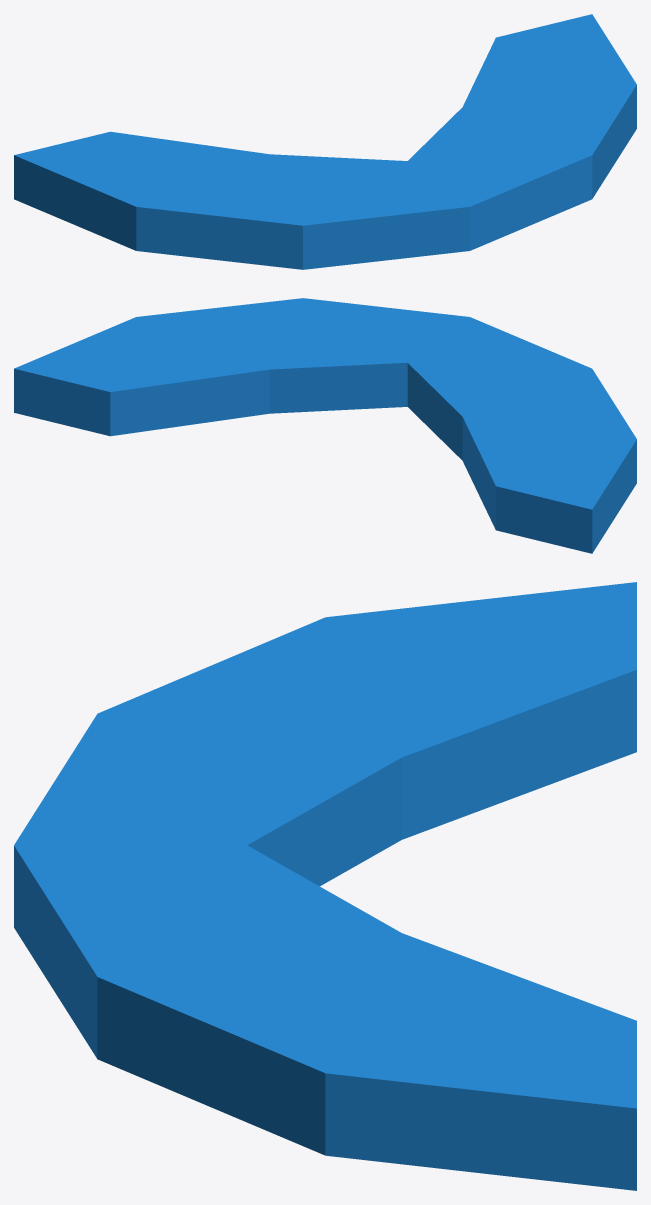
The model's file is Wave.fbx.
The picture shows the model from 3 angles, top to bottom: view 1: azimuth 30°, elevation 25°; view 2: azimuth 150°, elevation 25°; view 3: azimuth 270°, elevation 25°; orthographic projection. The views are drawn at different scales.
Visible parts, largest first — view 1: Wave; view 2: Wave; view 3: Wave.
Boxes of the visible parts, <box> form: Wave: <box>14,14,636,269</box>; Wave: <box>14,298,636,553</box>; Wave: <box>14,582,636,1190</box>.
Bounding box in the file's own units: 200 × 14.59 × 100.
